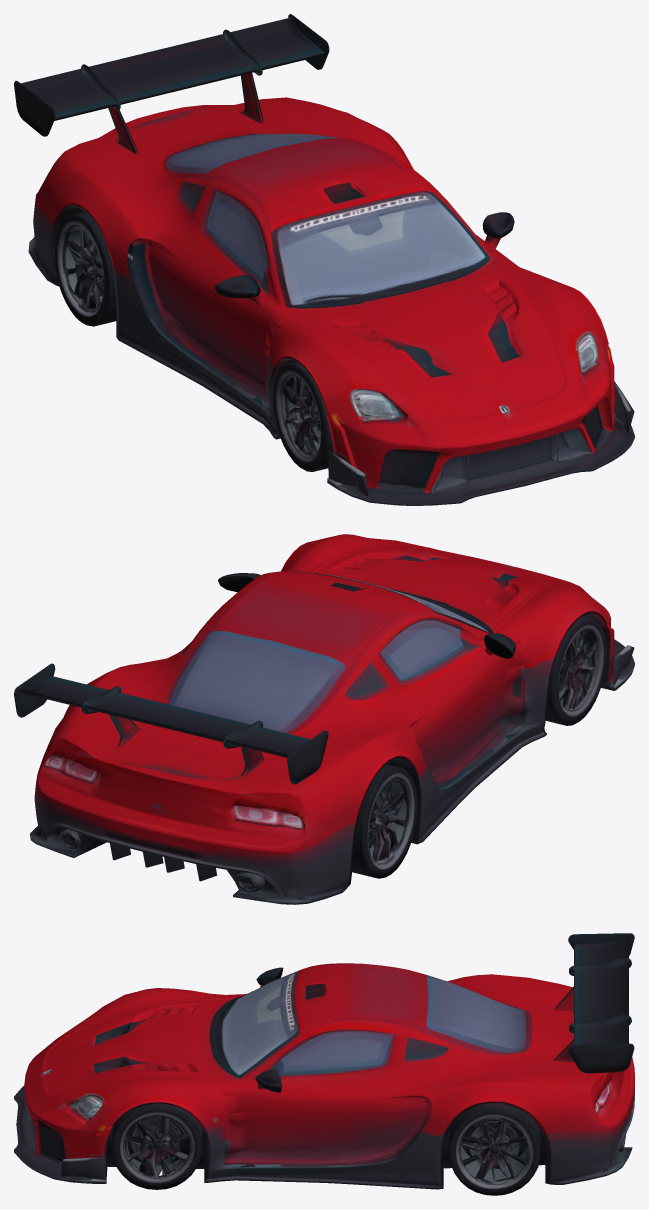
The model's file is high performance car 3d model.glb.
The picture shows the model from 3 angles, top to bottom: view 1: azimuth 30°, elevation 25°; view 2: azimuth 150°, elevation 25°; view 3: azimuth 270°, elevation 25°; orthographic projection. The views are drawn at different scales.
Visible parts, largest first — view 1: tripo_87801565_7262_400a_a290_6b26e2da4124; view 2: tripo_87801565_7262_400a_a290_6b26e2da4124; view 3: tripo_87801565_7262_400a_a290_6b26e2da4124.
Boxes of the visible parts, x1,y1,x2,y2 form: tripo_87801565_7262_400a_a290_6b26e2da4124: (14,14,634,505); tripo_87801565_7262_400a_a290_6b26e2da4124: (14,534,634,904); tripo_87801565_7262_400a_a290_6b26e2da4124: (14,933,634,1195).
Size of the model in its own units: 0.479 by 0.2622 by 0.9995.
Materials: 1 (1 with a texture image).
